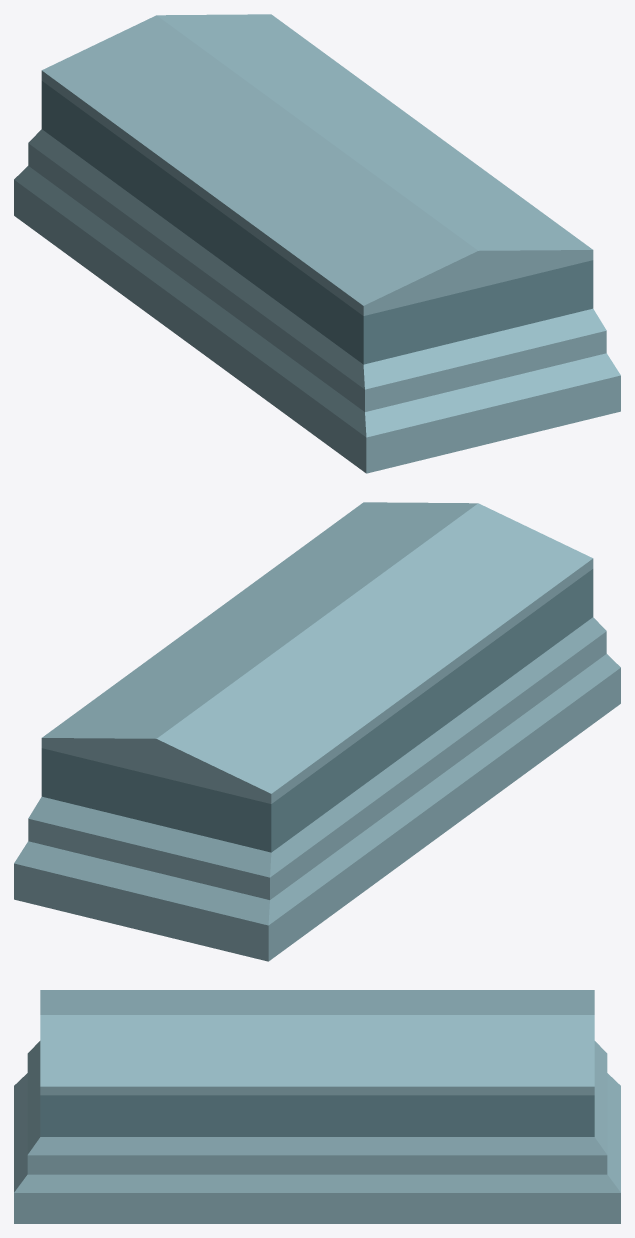
File: gravestoneFlatOpen.fbx
The picture shows the model from 3 angles, top to bottom: view 1: azimuth 30°, elevation 25°; view 2: azimuth 150°, elevation 25°; view 3: azimuth 270°, elevation 25°; orthographic projection. The views are drawn at different scales.
Visible parts, largest first — view 1: gravestoneFlatOpen, lid; view 2: gravestoneFlatOpen, lid; view 3: gravestoneFlatOpen, lid.
Part boxes in pixels (x1,y1,x2,y2): gravestoneFlatOpen: [14, 81, 620, 473]; lid: [41, 14, 593, 315]; gravestoneFlatOpen: [14, 569, 620, 961]; lid: [41, 502, 593, 803]; gravestoneFlatOpen: [14, 1041, 620, 1223]; lid: [40, 990, 594, 1095].
Bounding box in the file's own units: 4.72 × 3.2 × 11.32.
